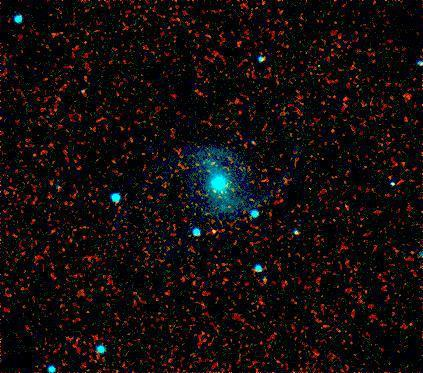star: (201, 218, 231, 248)
